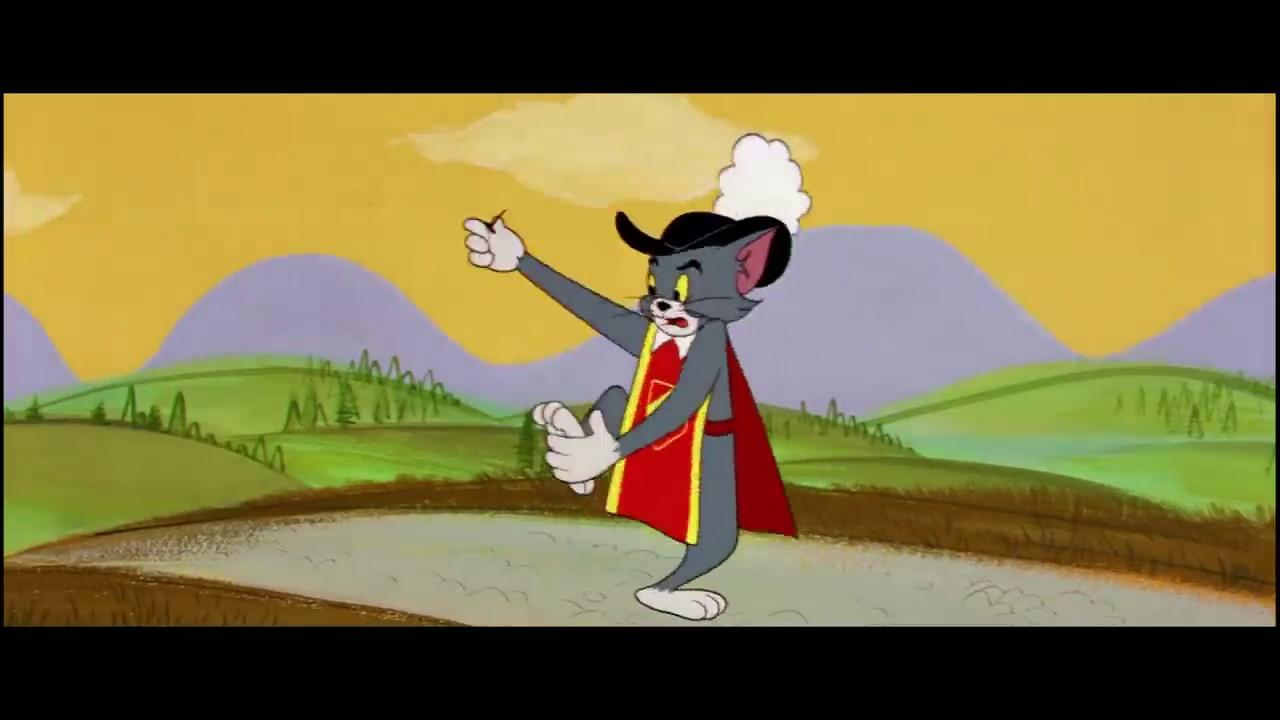Tom: (458, 212, 781, 625)
